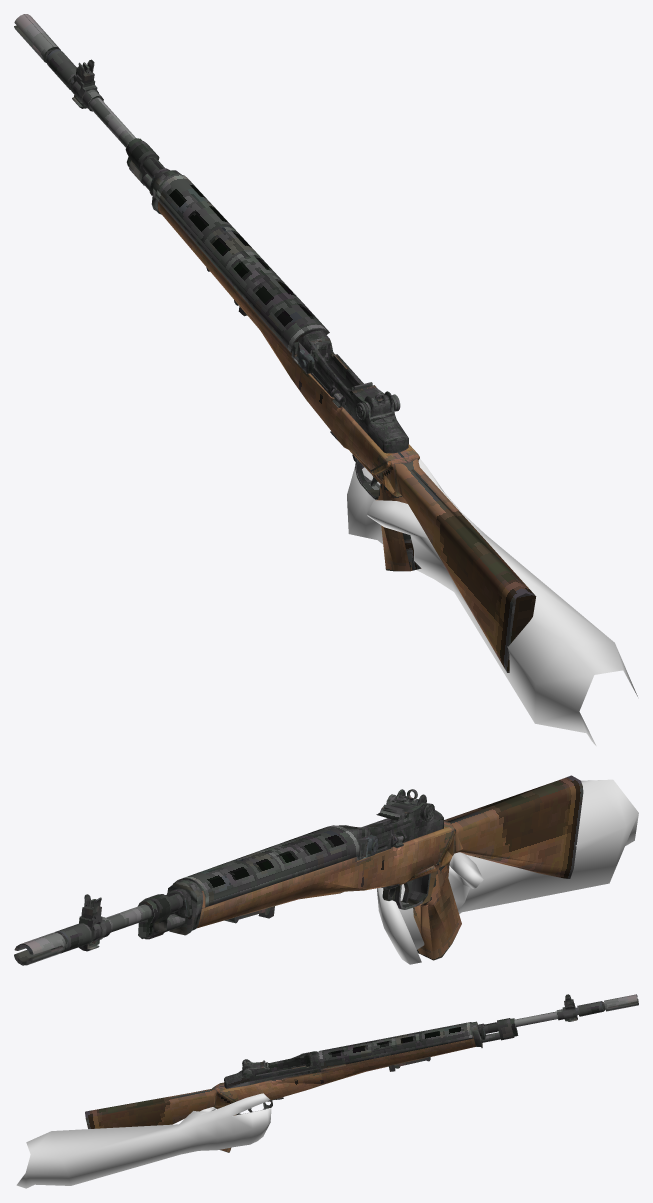
The model's file is First Person Dumah.glb.
The picture shows the model from 3 angles, top to bottom: view 1: azimuth 30°, elevation 25°; view 2: azimuth 150°, elevation 25°; view 3: azimuth 270°, elevation 25°; orthographic projection. The views are drawn at different scales.
Visible parts, largest first — view 1: M14 Body, Arm; view 2: M14 Body, Arm; view 3: M14 Body, Arm.
Boxes of the visible parts, box(x1,y1,x2,y2) form: M14 Body: box(14, 14, 536, 672); Arm: box(347, 459, 637, 745); M14 Body: box(14, 775, 583, 965); Arm: box(377, 779, 638, 964); M14 Body: box(85, 994, 638, 1152); Arm: box(16, 1093, 271, 1188).
Size of the model in its own units: 0.1549 by 0.458 by 1.42.
Materials: 2 (1 with a texture image).
